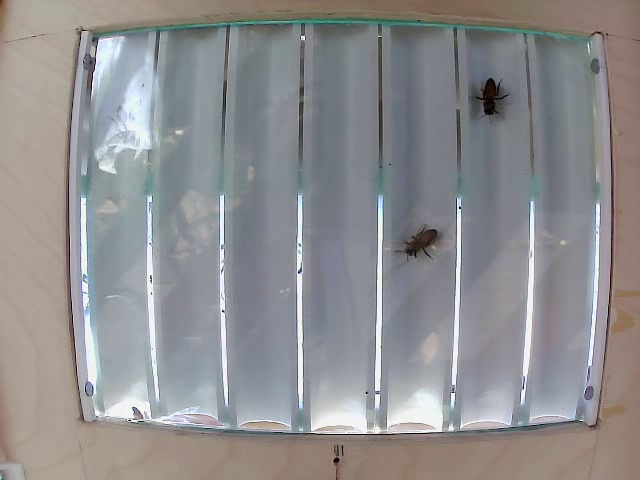bee: (474, 76, 516, 134), (392, 223, 440, 272)
